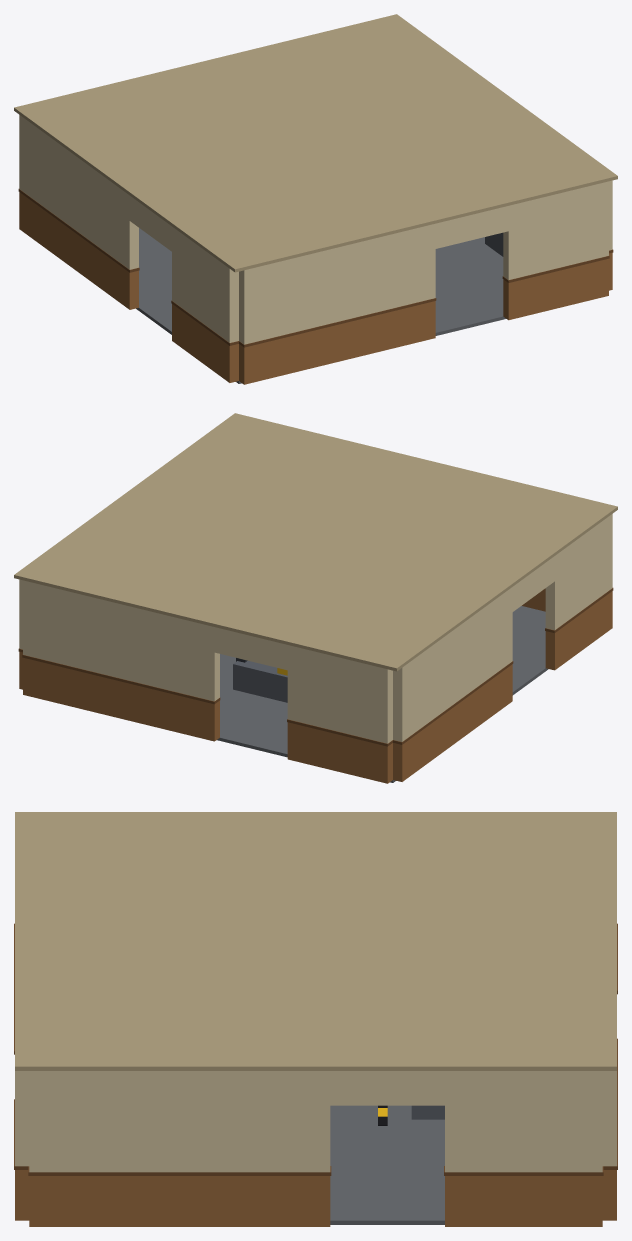
The model's file is room_robotics_machine_shop.glb.
The picture shows the model from 3 angles, top to bottom: view 1: azimuth 30°, elevation 25°; view 2: azimuth 150°, elevation 25°; view 3: azimuth 270°, elevation 25°; orthographic projection. The views are drawn at different scales.
Visible parts, largest first — view 1: room_robotics_machine_shop; view 2: room_robotics_machine_shop; view 3: room_robotics_machine_shop.
Boxes of the visible parts, x1,y1,x2,y2 form: room_robotics_machine_shop: (14, 14, 617, 384); room_robotics_machine_shop: (14, 413, 617, 783); room_robotics_machine_shop: (14, 812, 617, 1226).
Size of the model in its own units: 12.62 by 3.8 by 12.64.
Materials: 1 (1 with a texture image).
